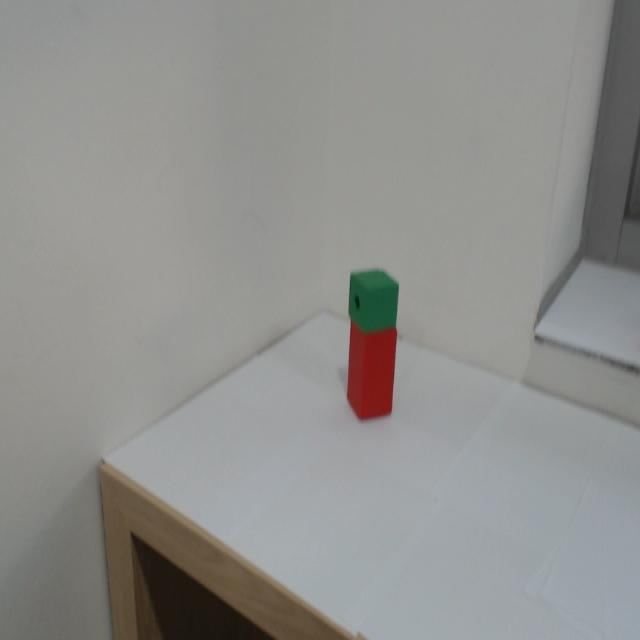cube: (347, 255, 401, 332)
